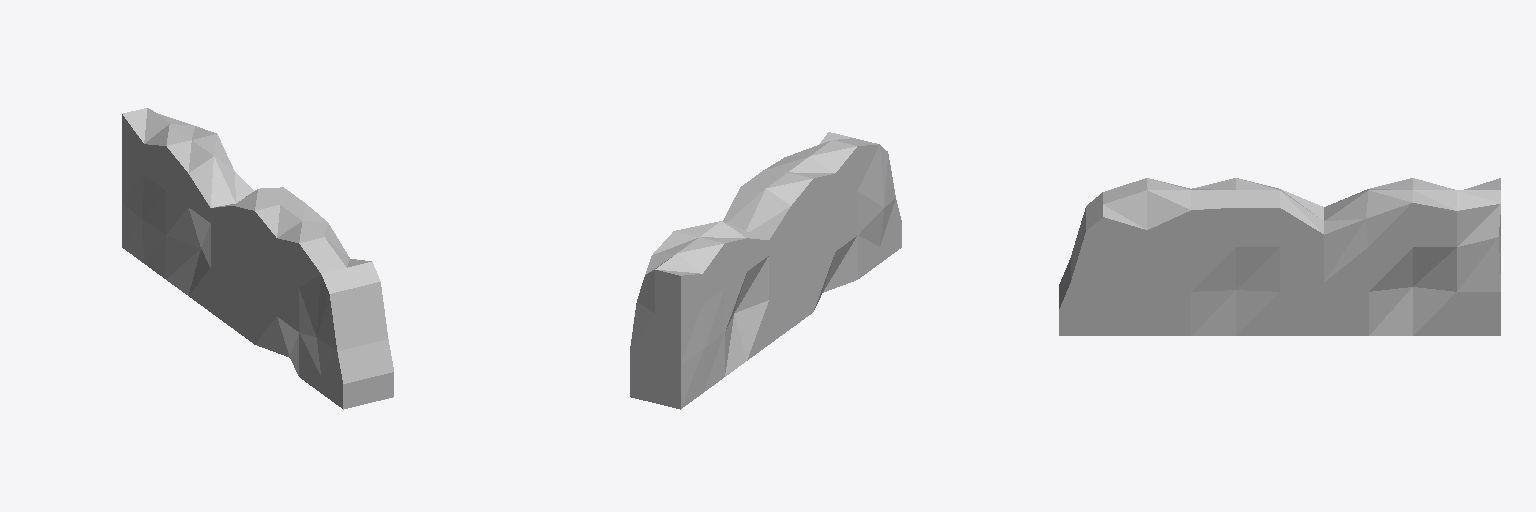
Rendered from Broken wall.obj.
3 renders of one model, left to right at view 1: azimuth 30°, elevation 25°; view 2: azimuth 150°, elevation 25°; view 3: azimuth 270°, elevation 25°, orthographic.
Parts seen in each view (by area): view 1: Box; view 2: Box; view 3: Box.
Part boxes in pixels (x1,y1,x2,y2): Box: (122, 108, 393, 409); Box: (630, 132, 901, 409); Box: (1059, 178, 1500, 335).
Bounding box in the file's own units: 0.435 × 1 × 3.